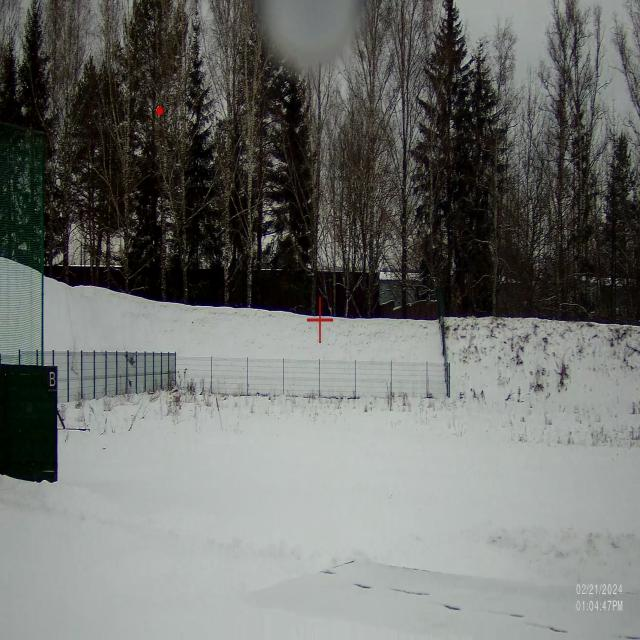entire: (152, 91, 171, 123)
